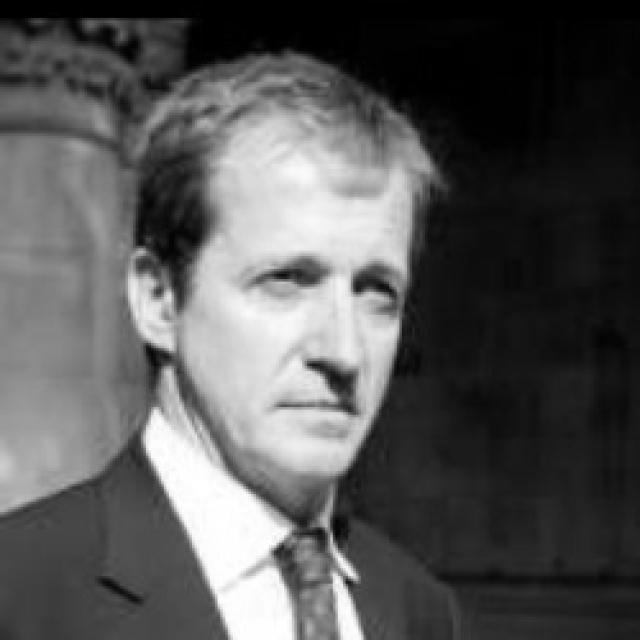real: (140, 60, 432, 517), (236, 241, 408, 318)
